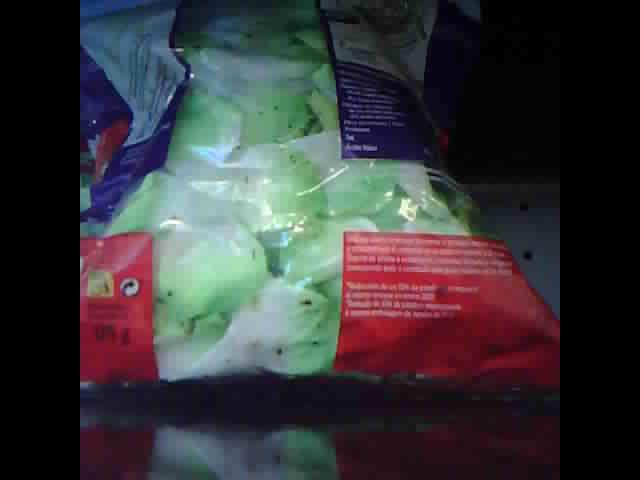florette: (81, 1, 557, 394)
